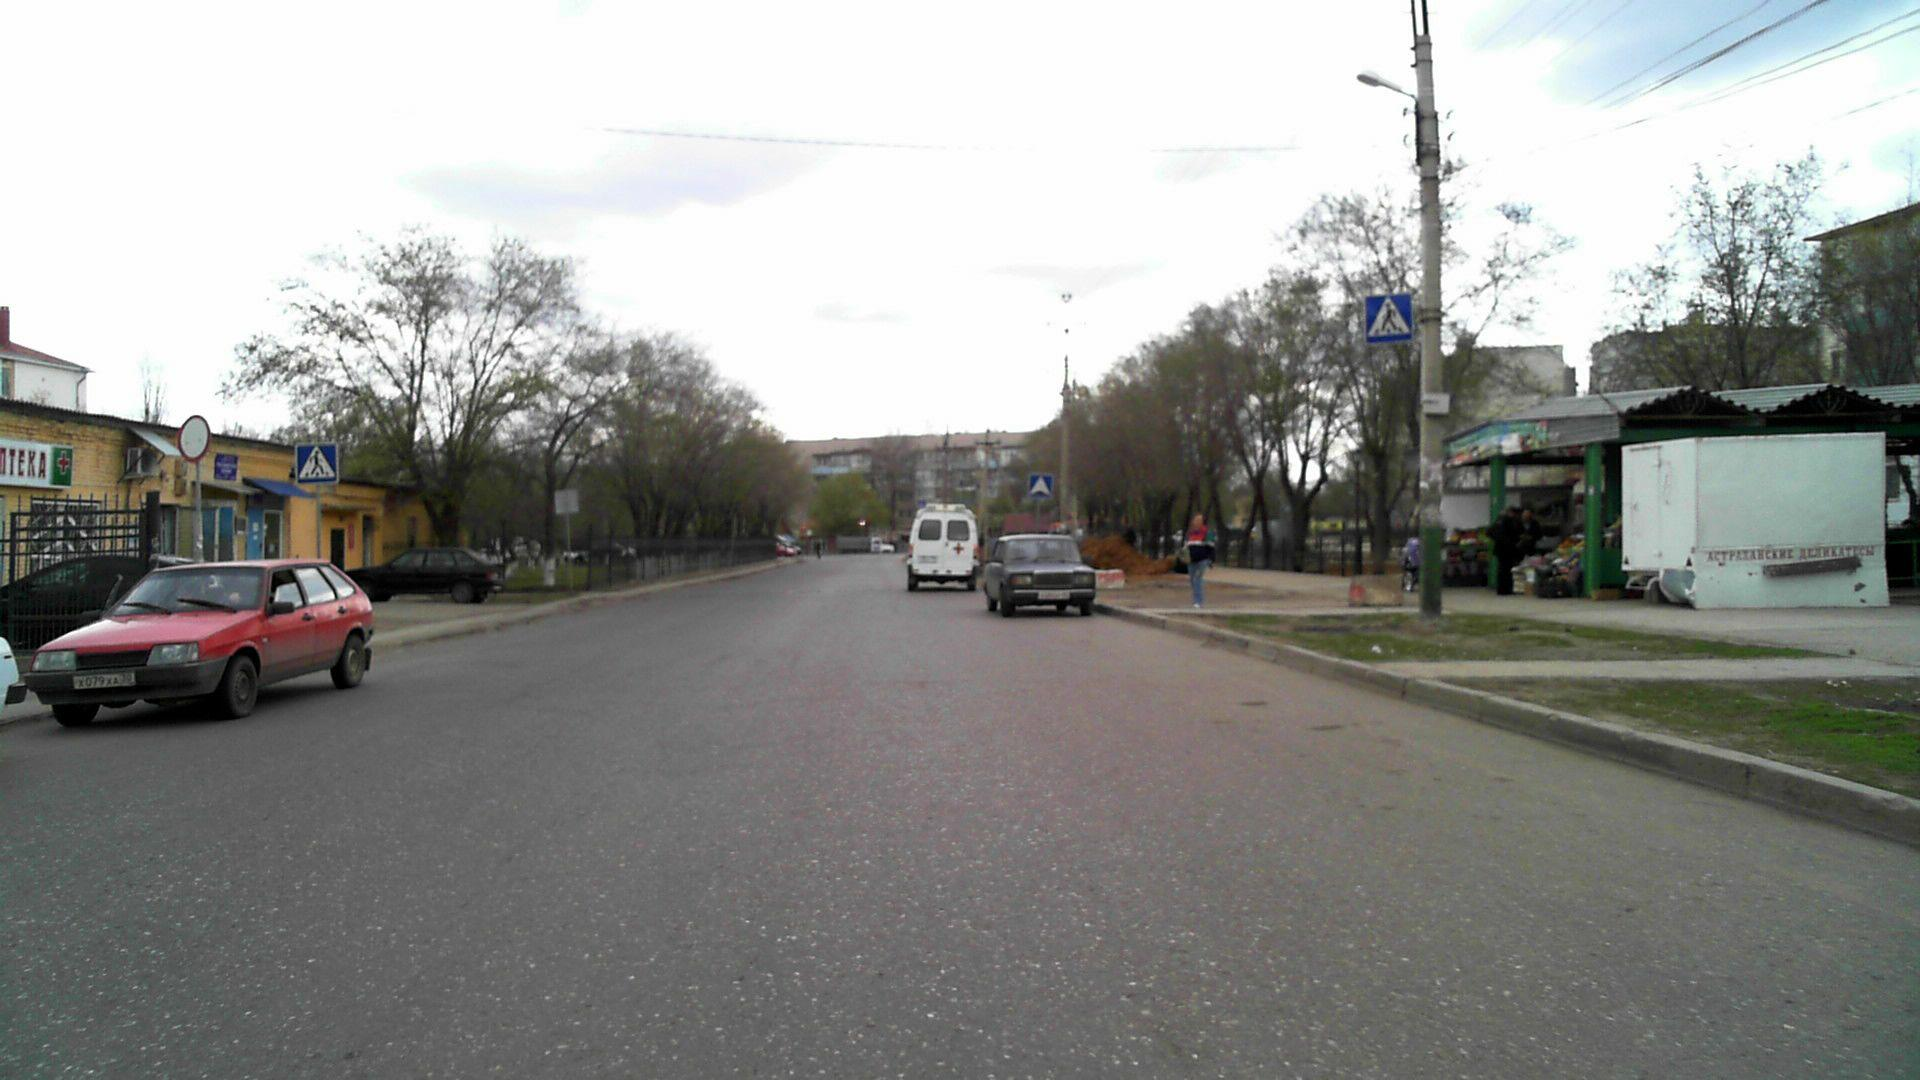5_19_1: (1360, 293, 1418, 344)
5_19_2: (295, 439, 338, 483)
5_20: (1026, 471, 1056, 500)
